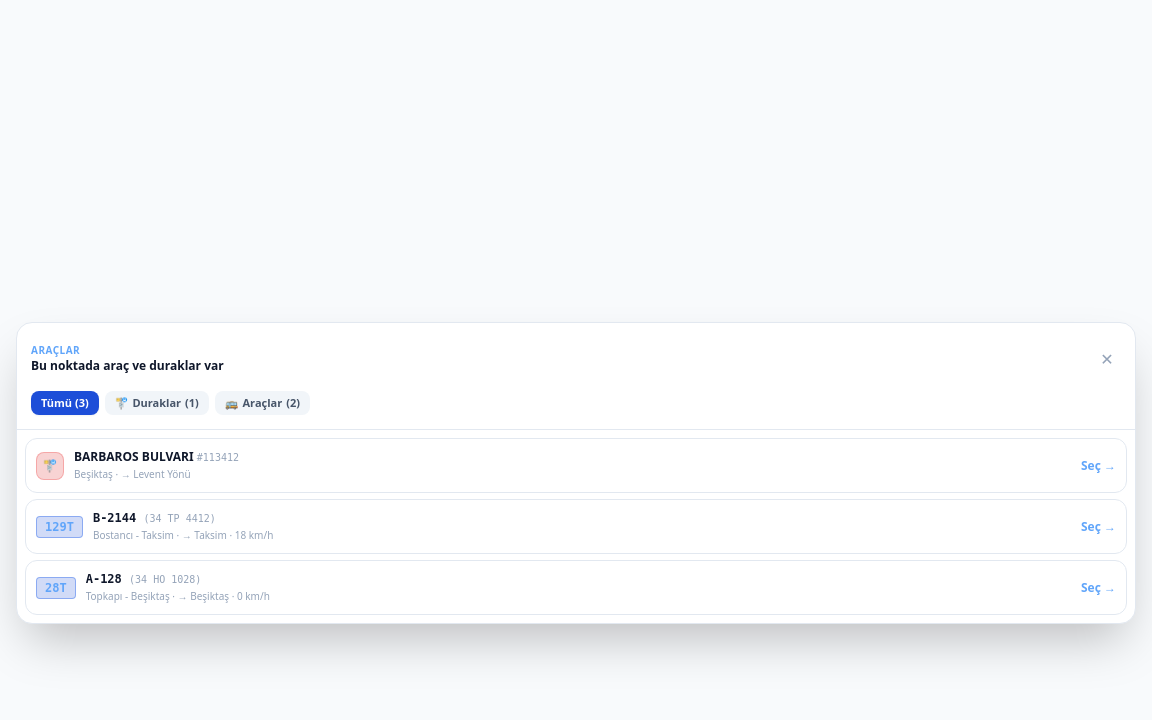
Test: MapEntityPicker (Variation 2 - Filter Pills) › filters items when clicking filter pills
The image size is (1152, 720).
Note: Click Duraklar pill
What coordinates should you click on to do the following:
click the button "🚏 Duraklar (1)"
I would click on:
 (157, 403)
Its box is [105, 390, 209, 415].
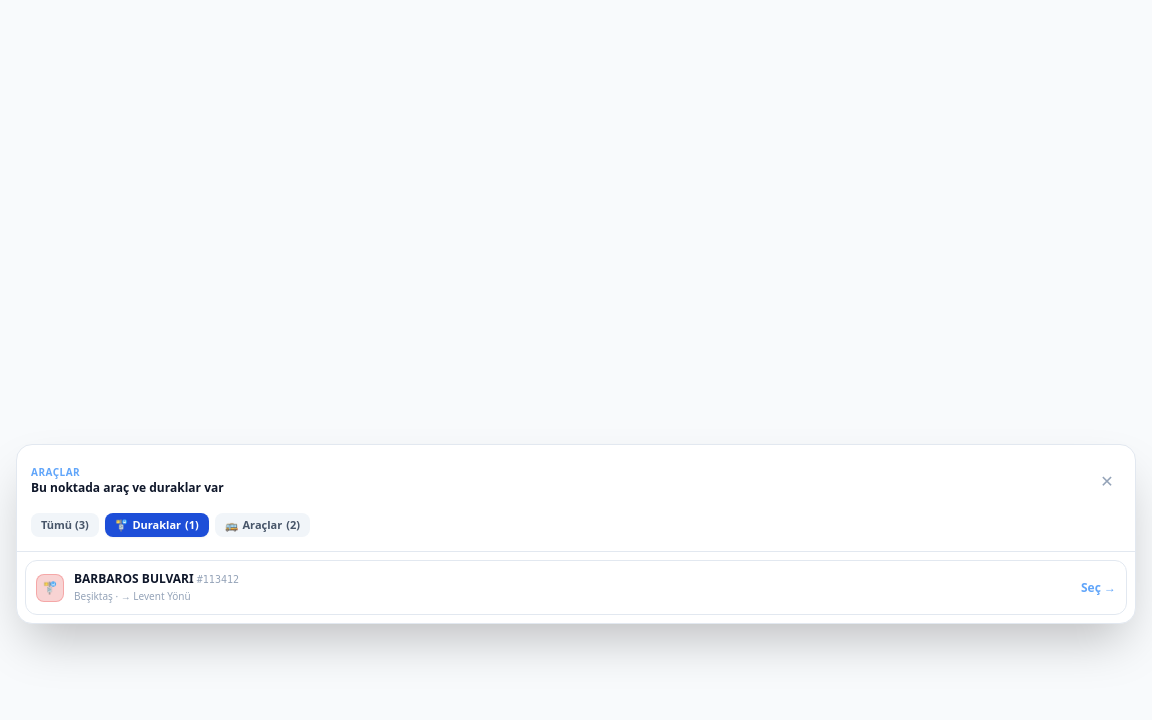
Expected: the text "BARBAROS BULVARI" is shown, [74, 570, 194, 587]
Expected: the button "B-2144" is gone
Note: Click Araçlar pill
What coordinates should you click on to do the following:
click the button "🚌 Araçlar (2)"
I would click on:
 (262, 525)
Its box is [215, 512, 310, 537].
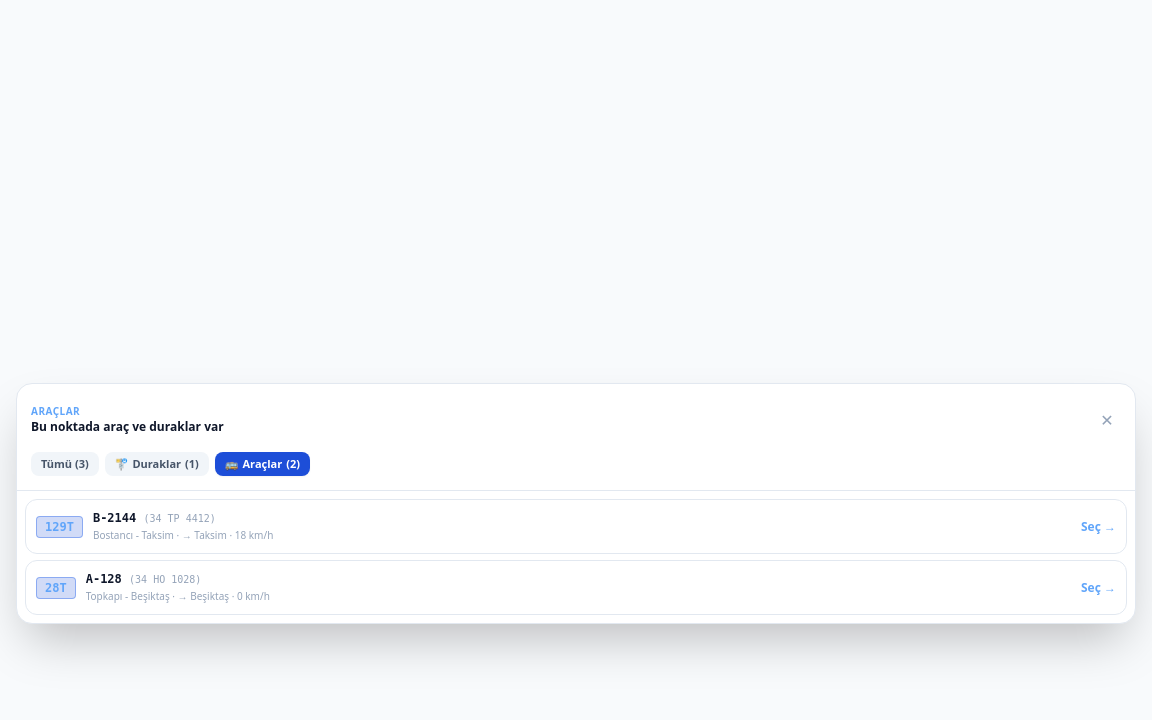
Expected: the button "BARBAROS BULVARI" is gone
Expected: the text "B-2144 (34 TP 4412)" is shown, [93, 511, 216, 525]
Expected: the text "A-128 (34 HO 1028)" is shown, [86, 572, 201, 586]
